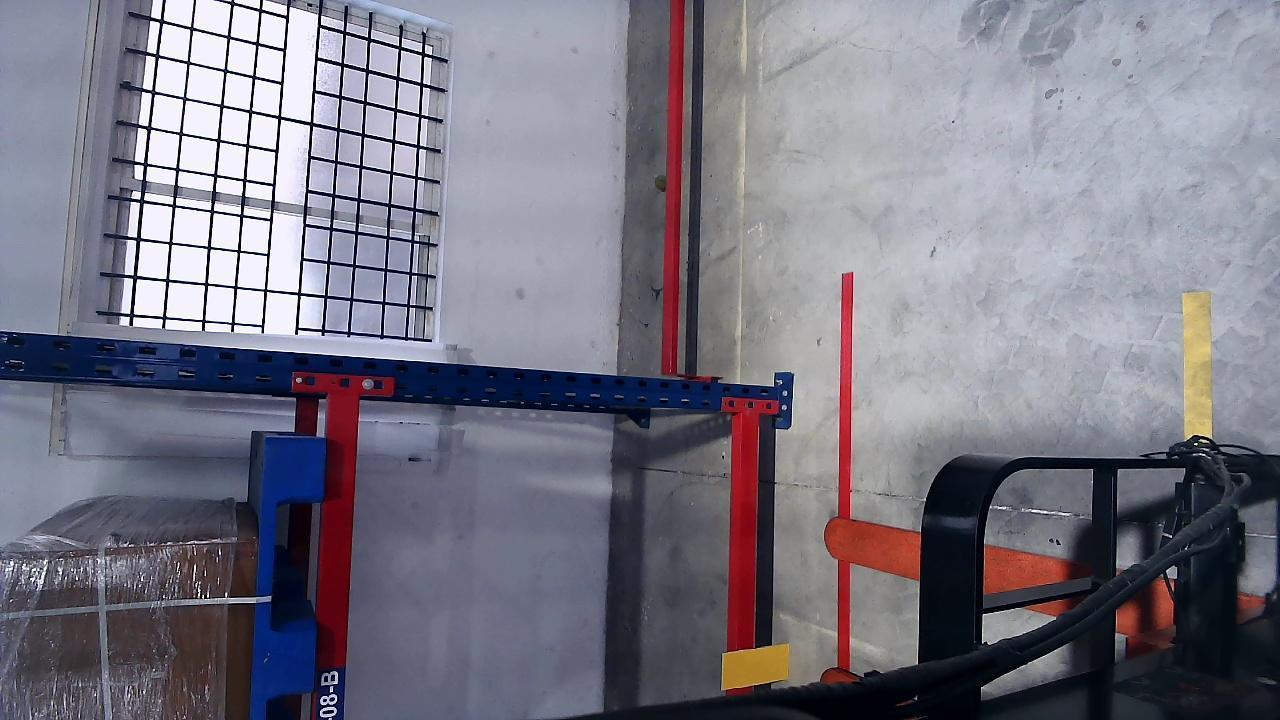red_line: (837, 270, 853, 668)
yellow_line: (1182, 293, 1214, 440)
